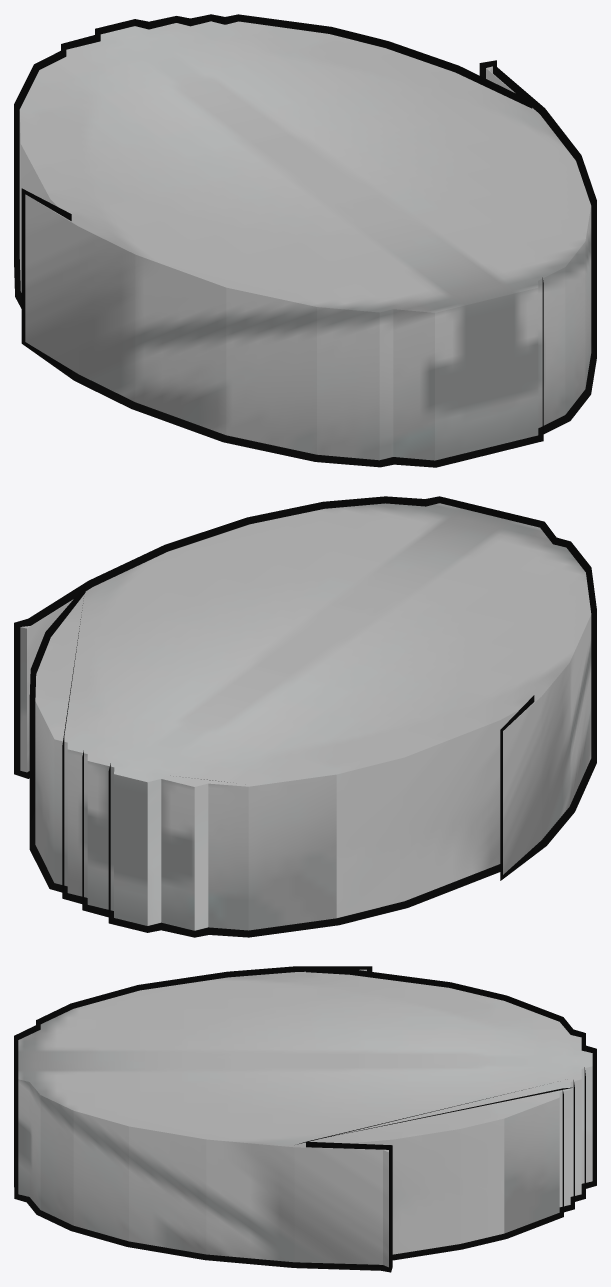
The model's file is Building_GravEngine_Things_Building_GravEngine_GravEngine_Orb.glb.
The picture shows the model from 3 angles, top to bottom: view 1: azimuth 30°, elevation 25°; view 2: azimuth 150°, elevation 25°; view 3: azimuth 270°, elevation 25°; orthographic projection. The views are drawn at different scales.
Parts seen in each view (by area): view 1: Body, Outline; view 2: Body, Outline; view 3: Body, Outline.
Boxes of the visible parts, x1,y1,x2,y2 form: Body: (19,21,591,460); Outline: (14,14,596,467); Body: (20,503,591,930); Outline: (14,496,596,937); Body: (18,969,592,1267); Outline: (14,966,596,1272).
Size of the model in its own units: 0.5535 by 0.1759 by 0.7364.
Materials: 2 (1 with a texture image).
